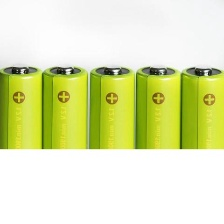battery: (136, 62, 182, 218), (44, 62, 90, 217), (91, 63, 136, 219), (179, 64, 224, 215), (0, 64, 43, 218)
